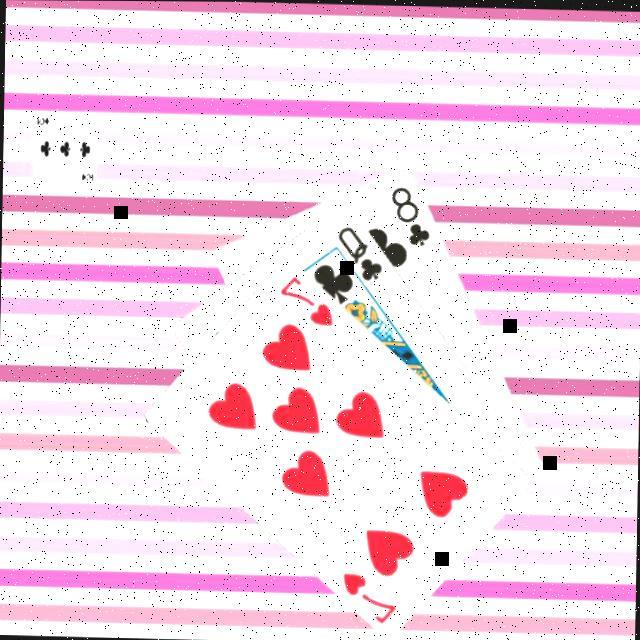7H: (337, 565, 400, 624), (274, 268, 336, 326)
8C: (385, 179, 433, 246)
QC: (332, 218, 386, 281)
